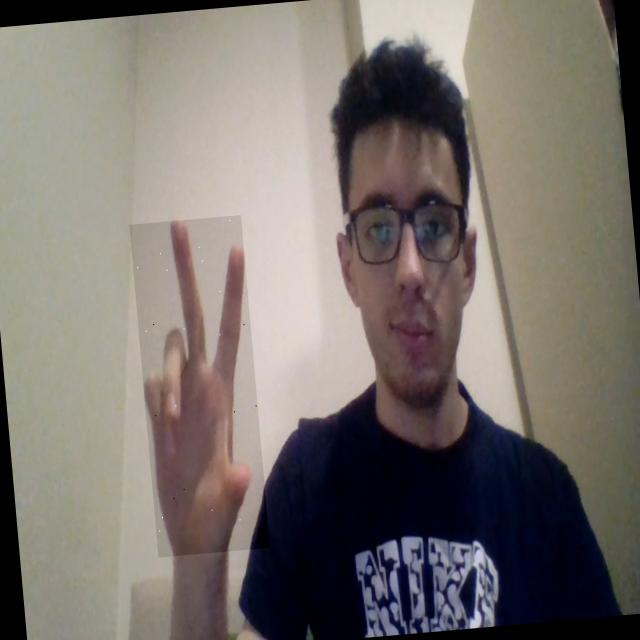no: (129, 215, 270, 558)
